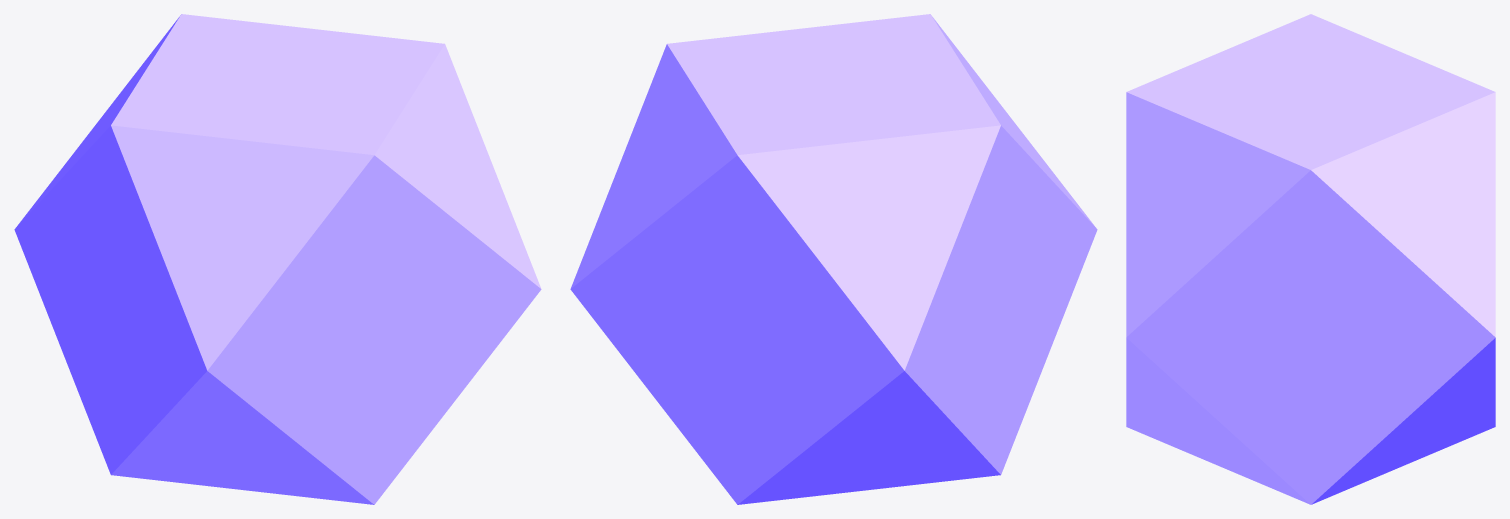
The model's file is light-blue.glb.
3 views of the same model, side by side, from view 1: azimuth 30°, elevation 25°; view 2: azimuth 150°, elevation 25°; view 3: azimuth 270°, elevation 25° (orthographic). The views are drawn at different scales.
Visible parts, largest first — view 1: Cube; view 2: Cube; view 3: Cube.
Part boxes in pixels (left/top/right/bottom): Cube: left=14, top=14, right=541, bottom=504; Cube: left=570, top=14, right=1097, bottom=504; Cube: left=1126, top=14, right=1495, bottom=504.
Bounding box in the file's own units: 1 × 1 × 1.
